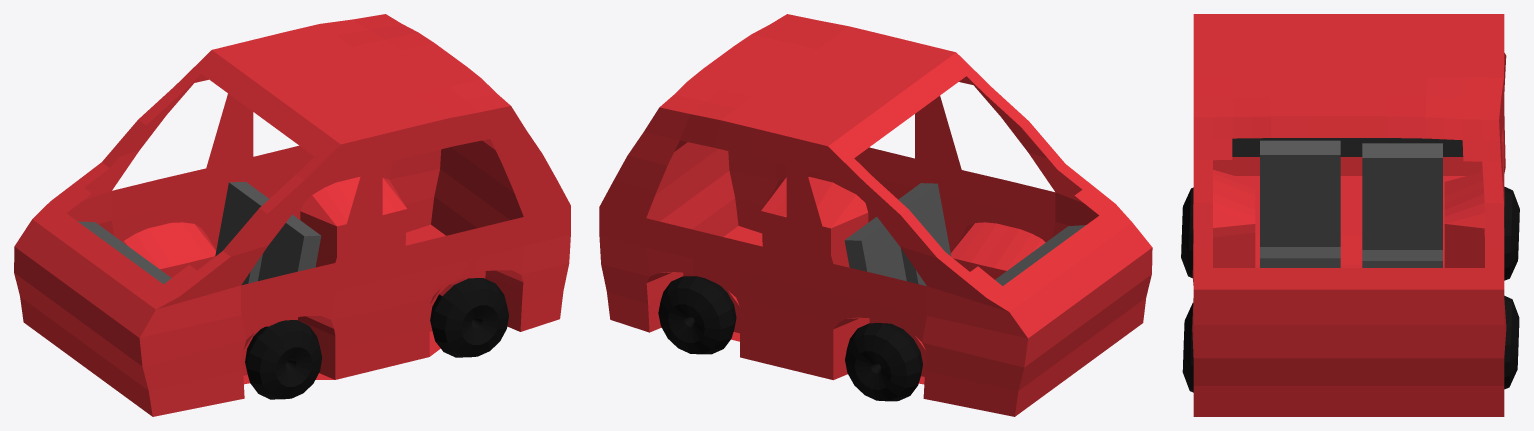
File: ColoredCarDSshad.gltf
The picture shows the model from 3 angles, left to right: view 1: azimuth 30°, elevation 25°; view 2: azimuth 150°, elevation 25°; view 3: azimuth 270°, elevation 25°; orthographic projection. The views are drawn at different scales.
Visible parts, largest first — view 1: Cube.007; view 2: Cube.007; view 3: Cube.007.
Boxes of the visible parts, box(x1,y1,x2,y2) form: Cube.007: box(14, 14, 570, 416); Cube.007: box(599, 14, 1152, 416); Cube.007: box(1181, 14, 1519, 416).
Size of the model in its own units: 5.76 by 3.21 by 3.27.
